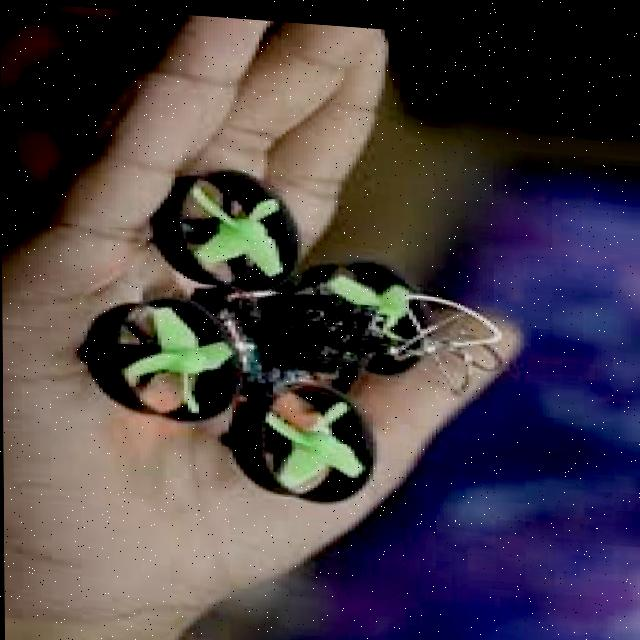drone: (61, 152, 502, 513)
